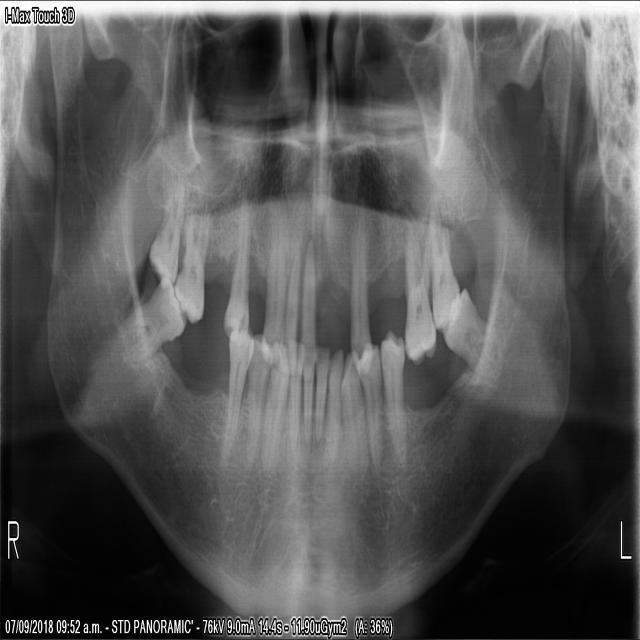LCD: (340, 348, 369, 484)
LCU: (350, 219, 370, 354)
LID: (312, 340, 331, 443), (326, 352, 344, 447)
LMD: (444, 282, 489, 369)
LMU: (404, 219, 438, 368), (428, 218, 461, 334)
LPMD: (380, 325, 407, 465), (356, 339, 383, 478)
RCD: (258, 340, 287, 483)
RCU: (261, 210, 290, 342)
RID: (286, 342, 302, 453), (303, 344, 314, 460)
RIU: (284, 217, 303, 344), (302, 232, 319, 360)
RMD: (120, 274, 187, 369)
RMU: (172, 207, 213, 324), (145, 187, 184, 284)
RPMD: (220, 327, 257, 458), (240, 328, 273, 474)
RPMU: (222, 204, 251, 332)
